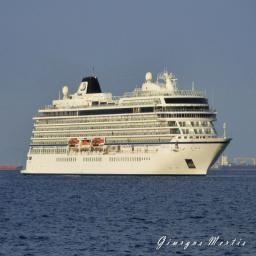cruises: (20, 67, 235, 180)
